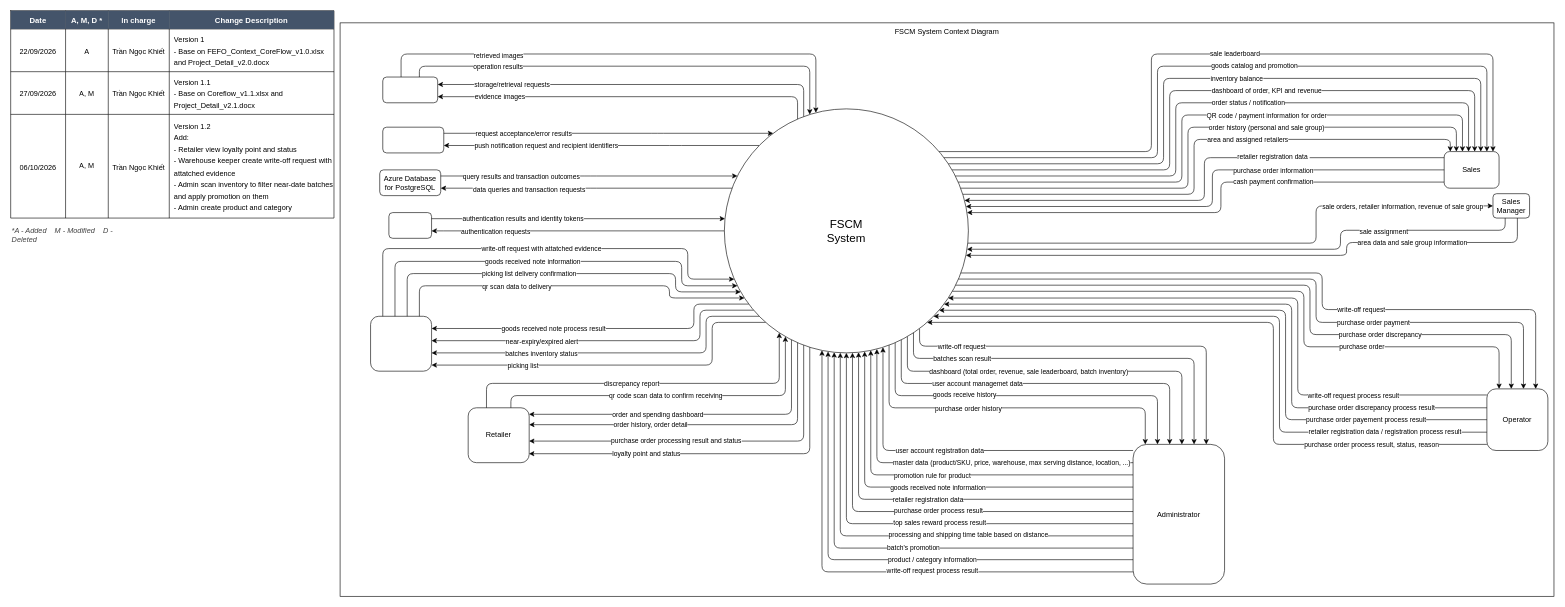
Some shapes in this 1565 by 607 pixel diagram are drawn without their labels. Here are the shapes that lost their labels. From the top down, the box of each, then its label:
(382, 76, 438, 103): Azure Blob Storage
(382, 127, 444, 153): Azure Notification Hubs
(388, 212, 432, 238): Microsoft Entra ID
(370, 316, 432, 371): Warehouse Keeper
